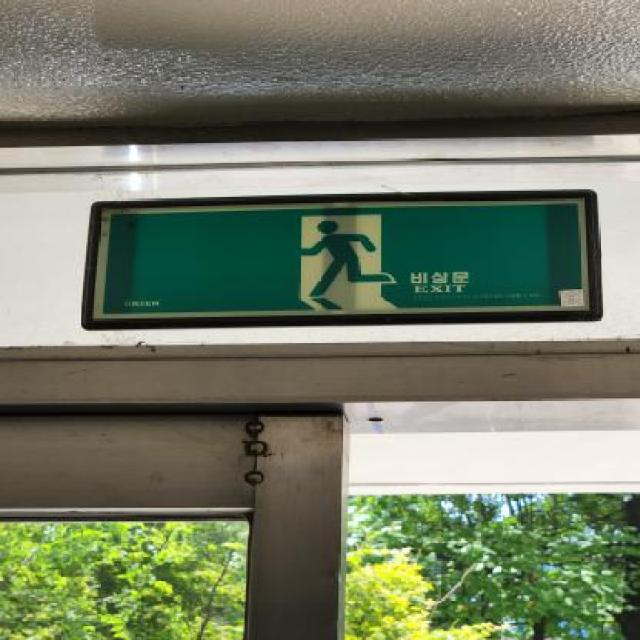person: (65, 192, 618, 336)
